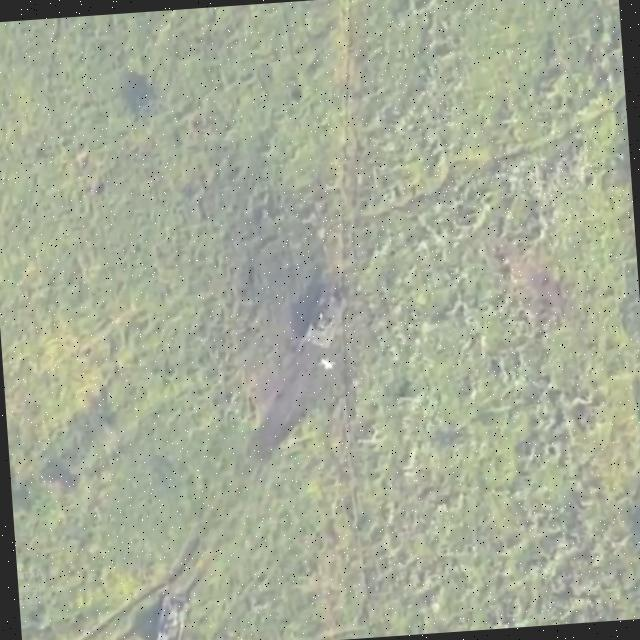MBT: (297, 286, 353, 354), (150, 588, 192, 640)
